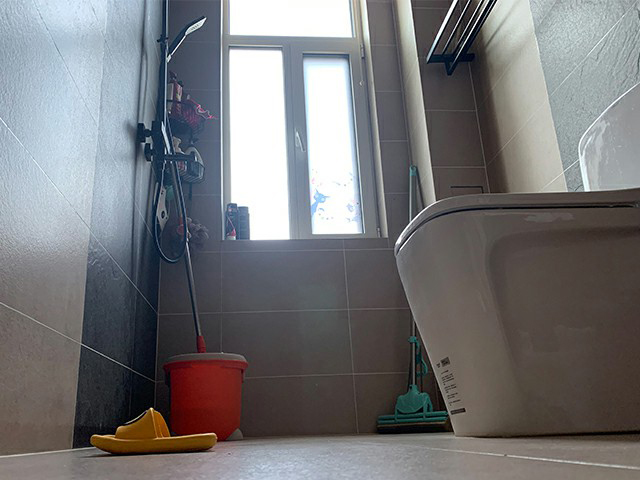closestool: (393, 82, 638, 437)
slippers: (89, 407, 218, 457)
